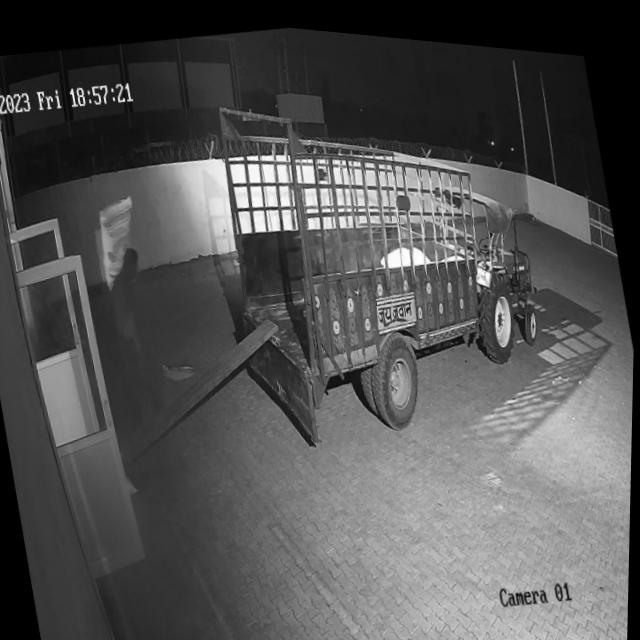sack: (91, 191, 148, 292)
